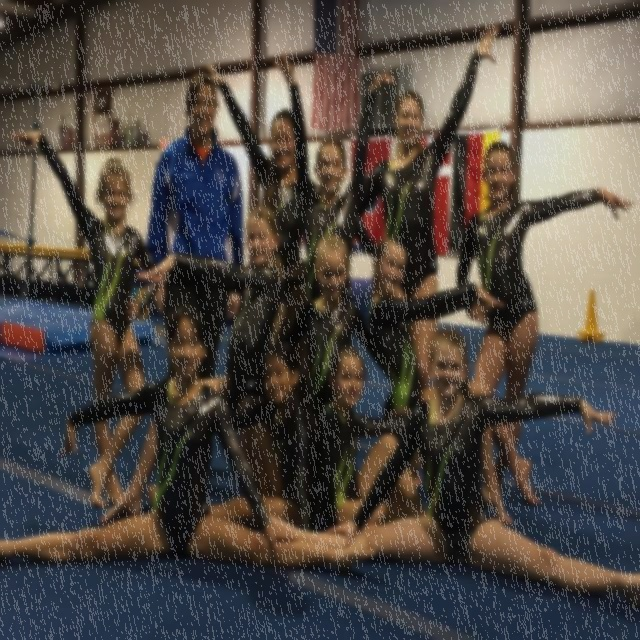pessoa: (0, 294, 380, 589), (266, 326, 640, 610), (352, 22, 499, 488), (454, 137, 636, 492), (95, 204, 285, 522), (9, 124, 148, 510), (366, 234, 515, 528), (146, 72, 246, 480), (140, 338, 322, 556), (272, 50, 398, 306), (306, 344, 432, 530), (201, 54, 305, 274), (280, 234, 390, 423)
